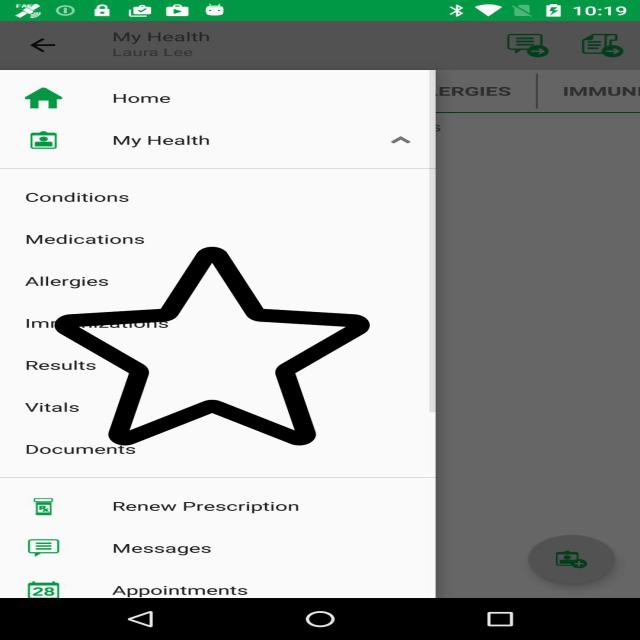forced continuity: (54, 242, 370, 450)
